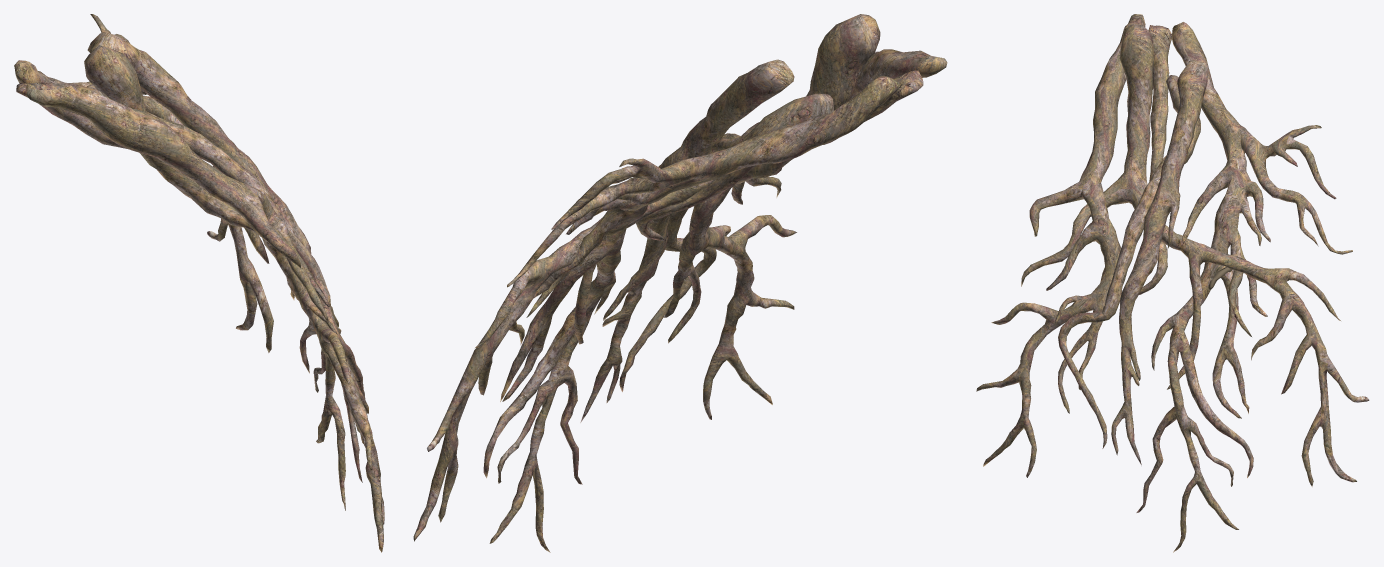
Rendered from SM_HollowInteriorRoots_01.fbx.
3 views of the same model, side by side, from view 1: azimuth 30°, elevation 25°; view 2: azimuth 150°, elevation 25°; view 3: azimuth 270°, elevation 25° (orthographic). The views are drawn at different scales.
Parts seen in each view (by area): view 1: SM_HollowInteriorRoots_01; view 2: SM_HollowInteriorRoots_01; view 3: SM_HollowInteriorRoots_01.
Part boxes in pixels (x1=…): SM_HollowInteriorRoots_01: x1=14, y1=14, x2=384, y2=552; SM_HollowInteriorRoots_01: x1=413, y1=14, x2=947, y2=552; SM_HollowInteriorRoots_01: x1=976, y1=14, x2=1369, y2=552.
Size of the model in its own units: 461 by 562 by 673.
1 material, 1 textured.
